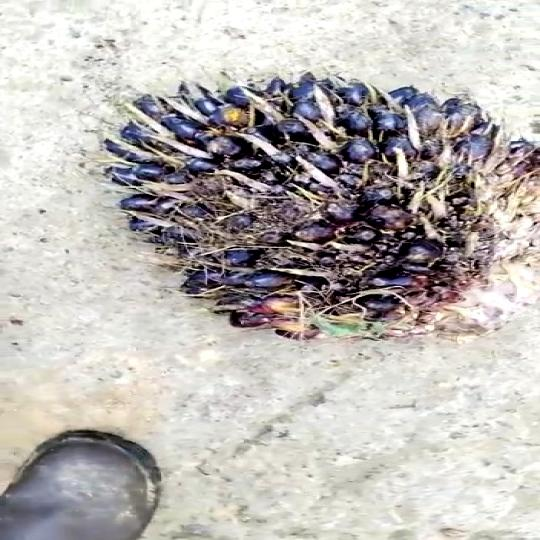mentah: (87, 65, 540, 365)
